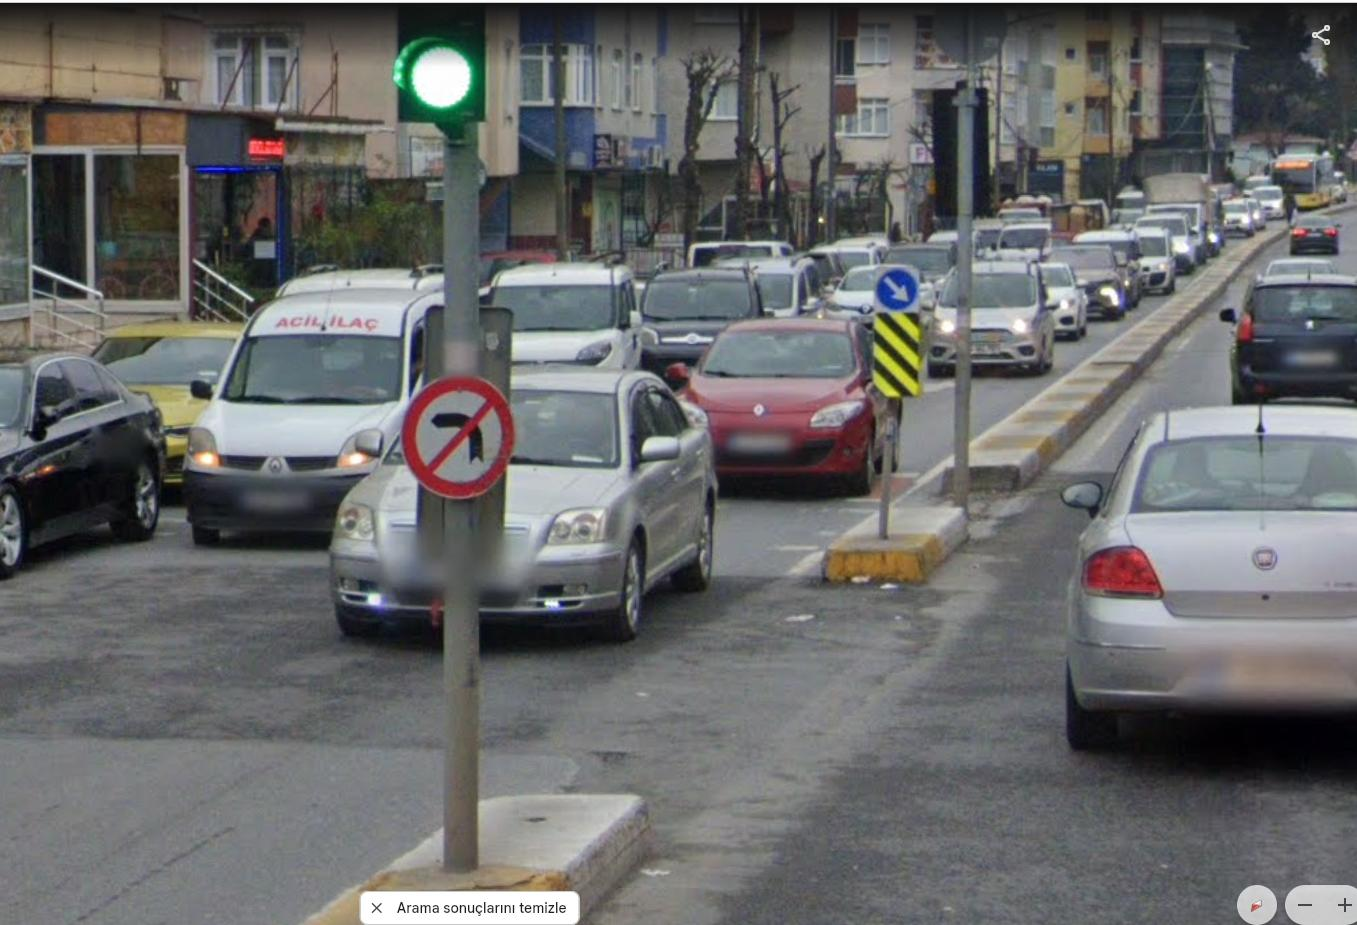greenlight: (364, 7, 511, 164)
leftturnsareforbidden: (398, 368, 528, 502)
